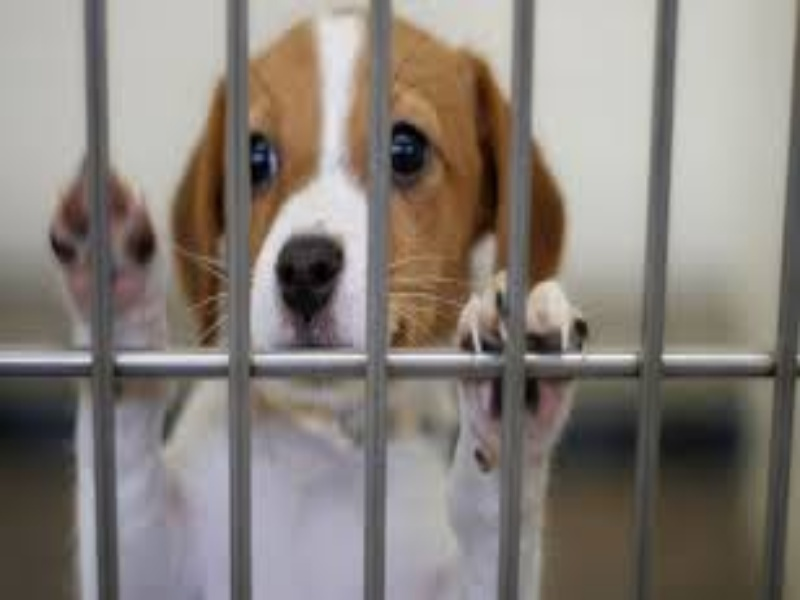dog: (43, 11, 582, 575)
